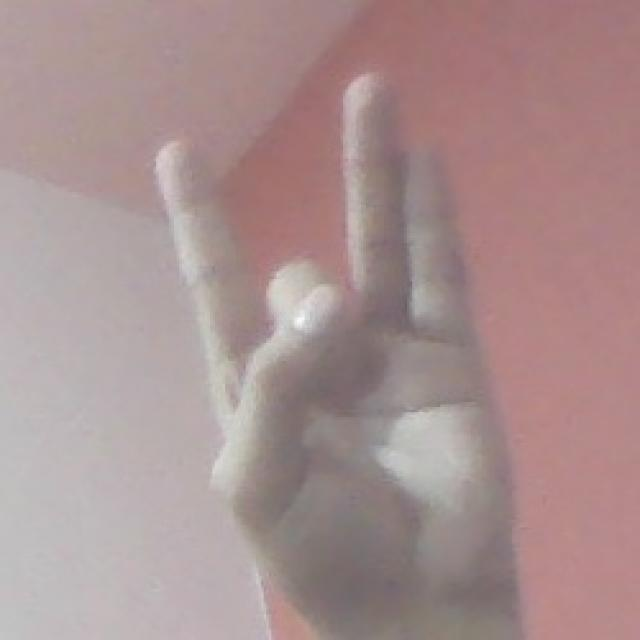Numeric-8: (154, 67, 511, 596)
